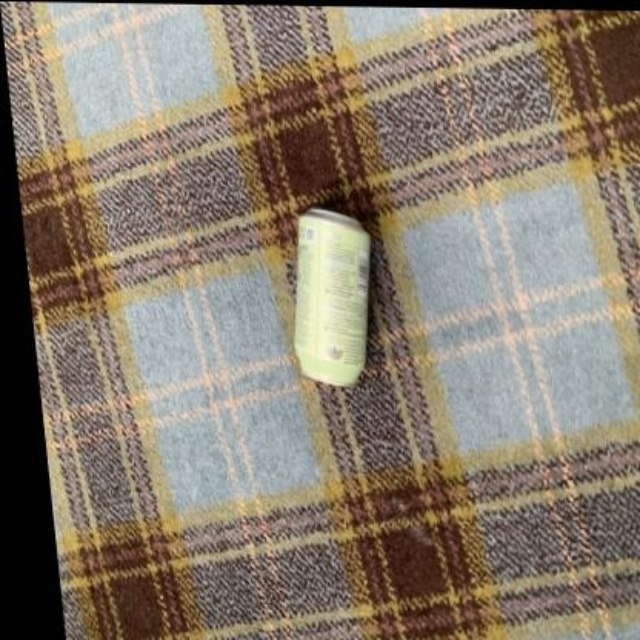trash: (294, 208, 369, 385)
